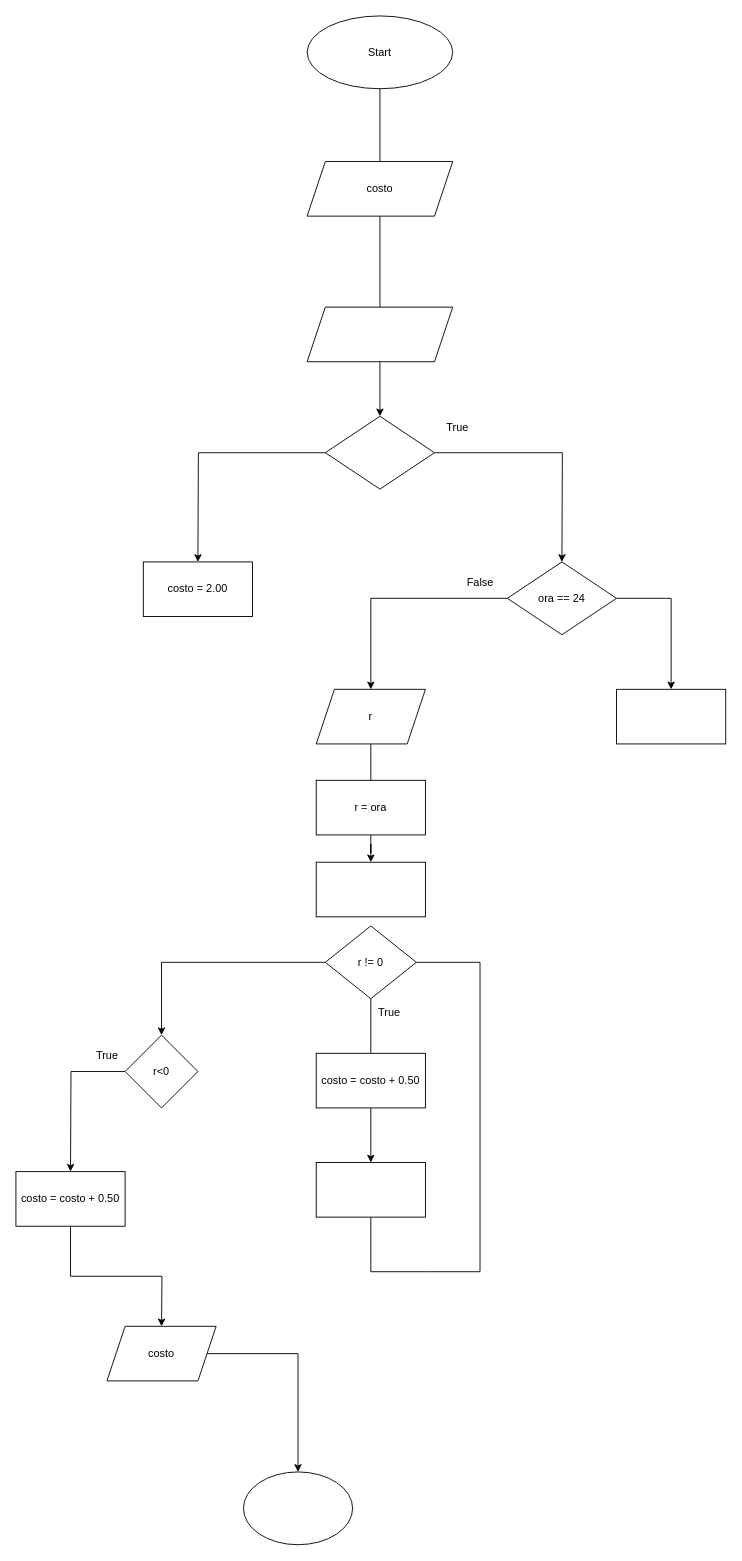
This 742x1561 diagram has some shape labels left out. The centre of each missing label's shape, as x and y in pixels:
"costo = 10.00" belongs at (671,716).
"Fine" belongs at (298,1508).
"ora" belongs at (379,334).
"ora > 3" belongs at (379,452).
"r = r - 3" belongs at (370,889).
"r= r-1" belongs at (370,1189).
